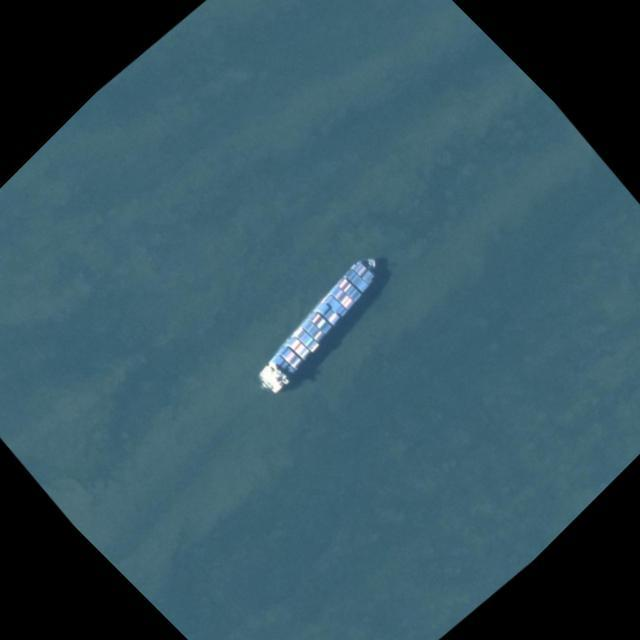ship: (290, 258, 347, 391)
